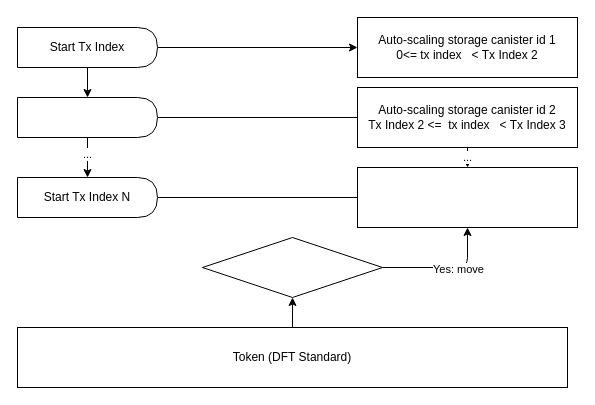
This 595x405 diagram has some shape labels left out. The centre of each missing label's shape, as x and y in pixels:
Auto-scaling storage canister id N Tx Index N <= tx index: point (467, 197)
if txs.count >= 2000 tx: point (292, 267)
Start Tx Index 2: point (87, 117)
